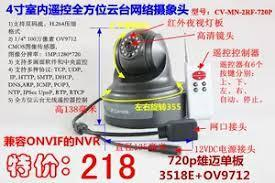maru: (100, 19, 198, 140)
